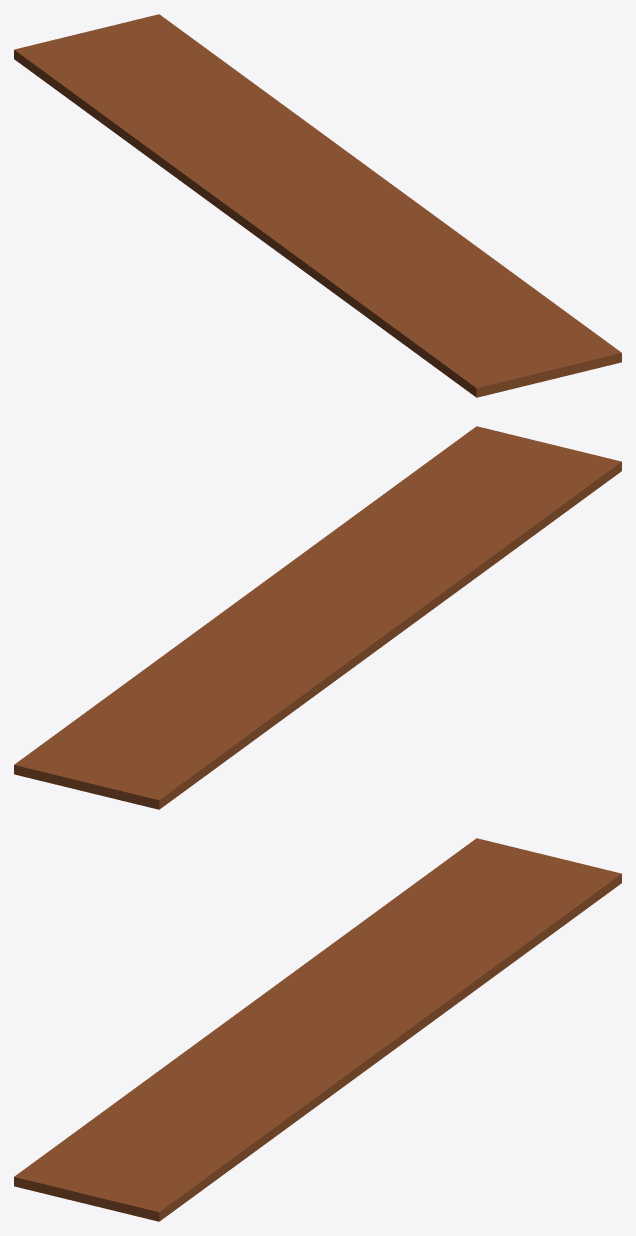
The model's file is Mueble.fbx.
3 renders of one model, top to bottom at view 1: azimuth 30°, elevation 25°; view 2: azimuth 150°, elevation 25°; view 3: azimuth 330°, elevation 25°, orthographic.
Visible parts, largest first — view 1: Cube; view 2: Cube; view 3: Cube.
Boxes of the visible parts, <box> form: Cube: <box>14,14,621,397</box>; Cube: <box>14,426,621,809</box>; Cube: <box>14,838,621,1221</box>.
Bounding box in the file's own units: 71.02 × 4.44 × 392.
